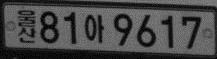1: (63, 10, 77, 45), (160, 14, 174, 49)
6: (135, 12, 156, 47)
7: (180, 15, 201, 49)
8: (39, 9, 59, 44)
9: (113, 12, 133, 46)
아: (83, 13, 105, 44)
울산_V: (15, 8, 36, 44)
